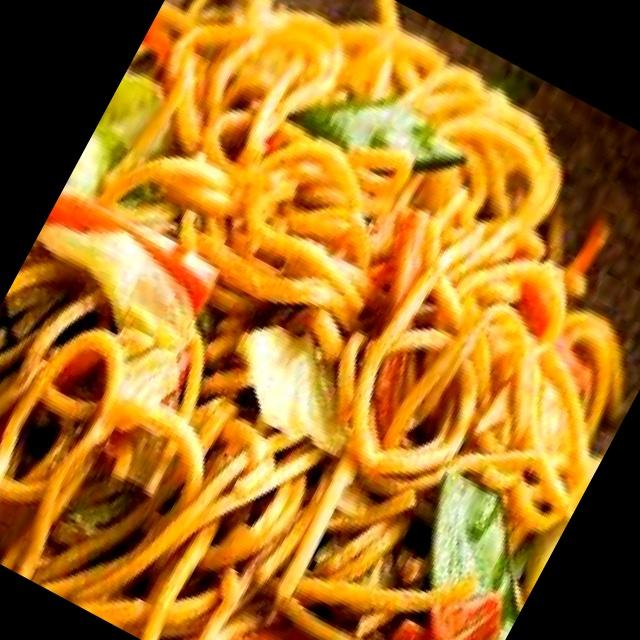pancit bihon: (0, 0, 625, 639)
